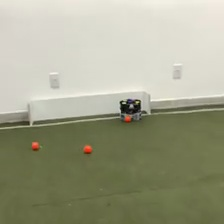ball: (31, 140, 40, 150), (83, 144, 92, 153), (123, 114, 132, 122)
goal: (26, 89, 152, 127)
robot: (118, 97, 142, 121)
